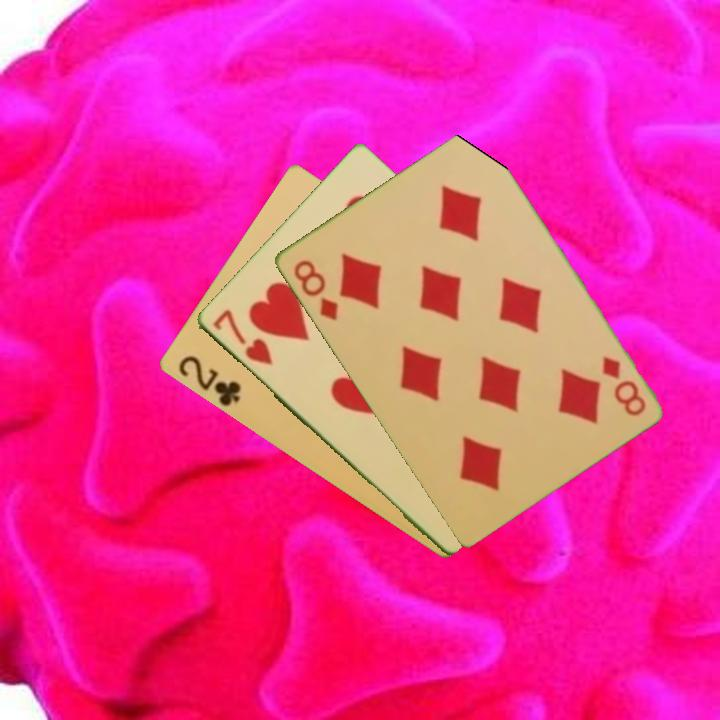2c: (174, 352, 244, 410)
7h: (209, 305, 275, 369)
8d: (289, 256, 341, 324), (597, 352, 649, 419)
